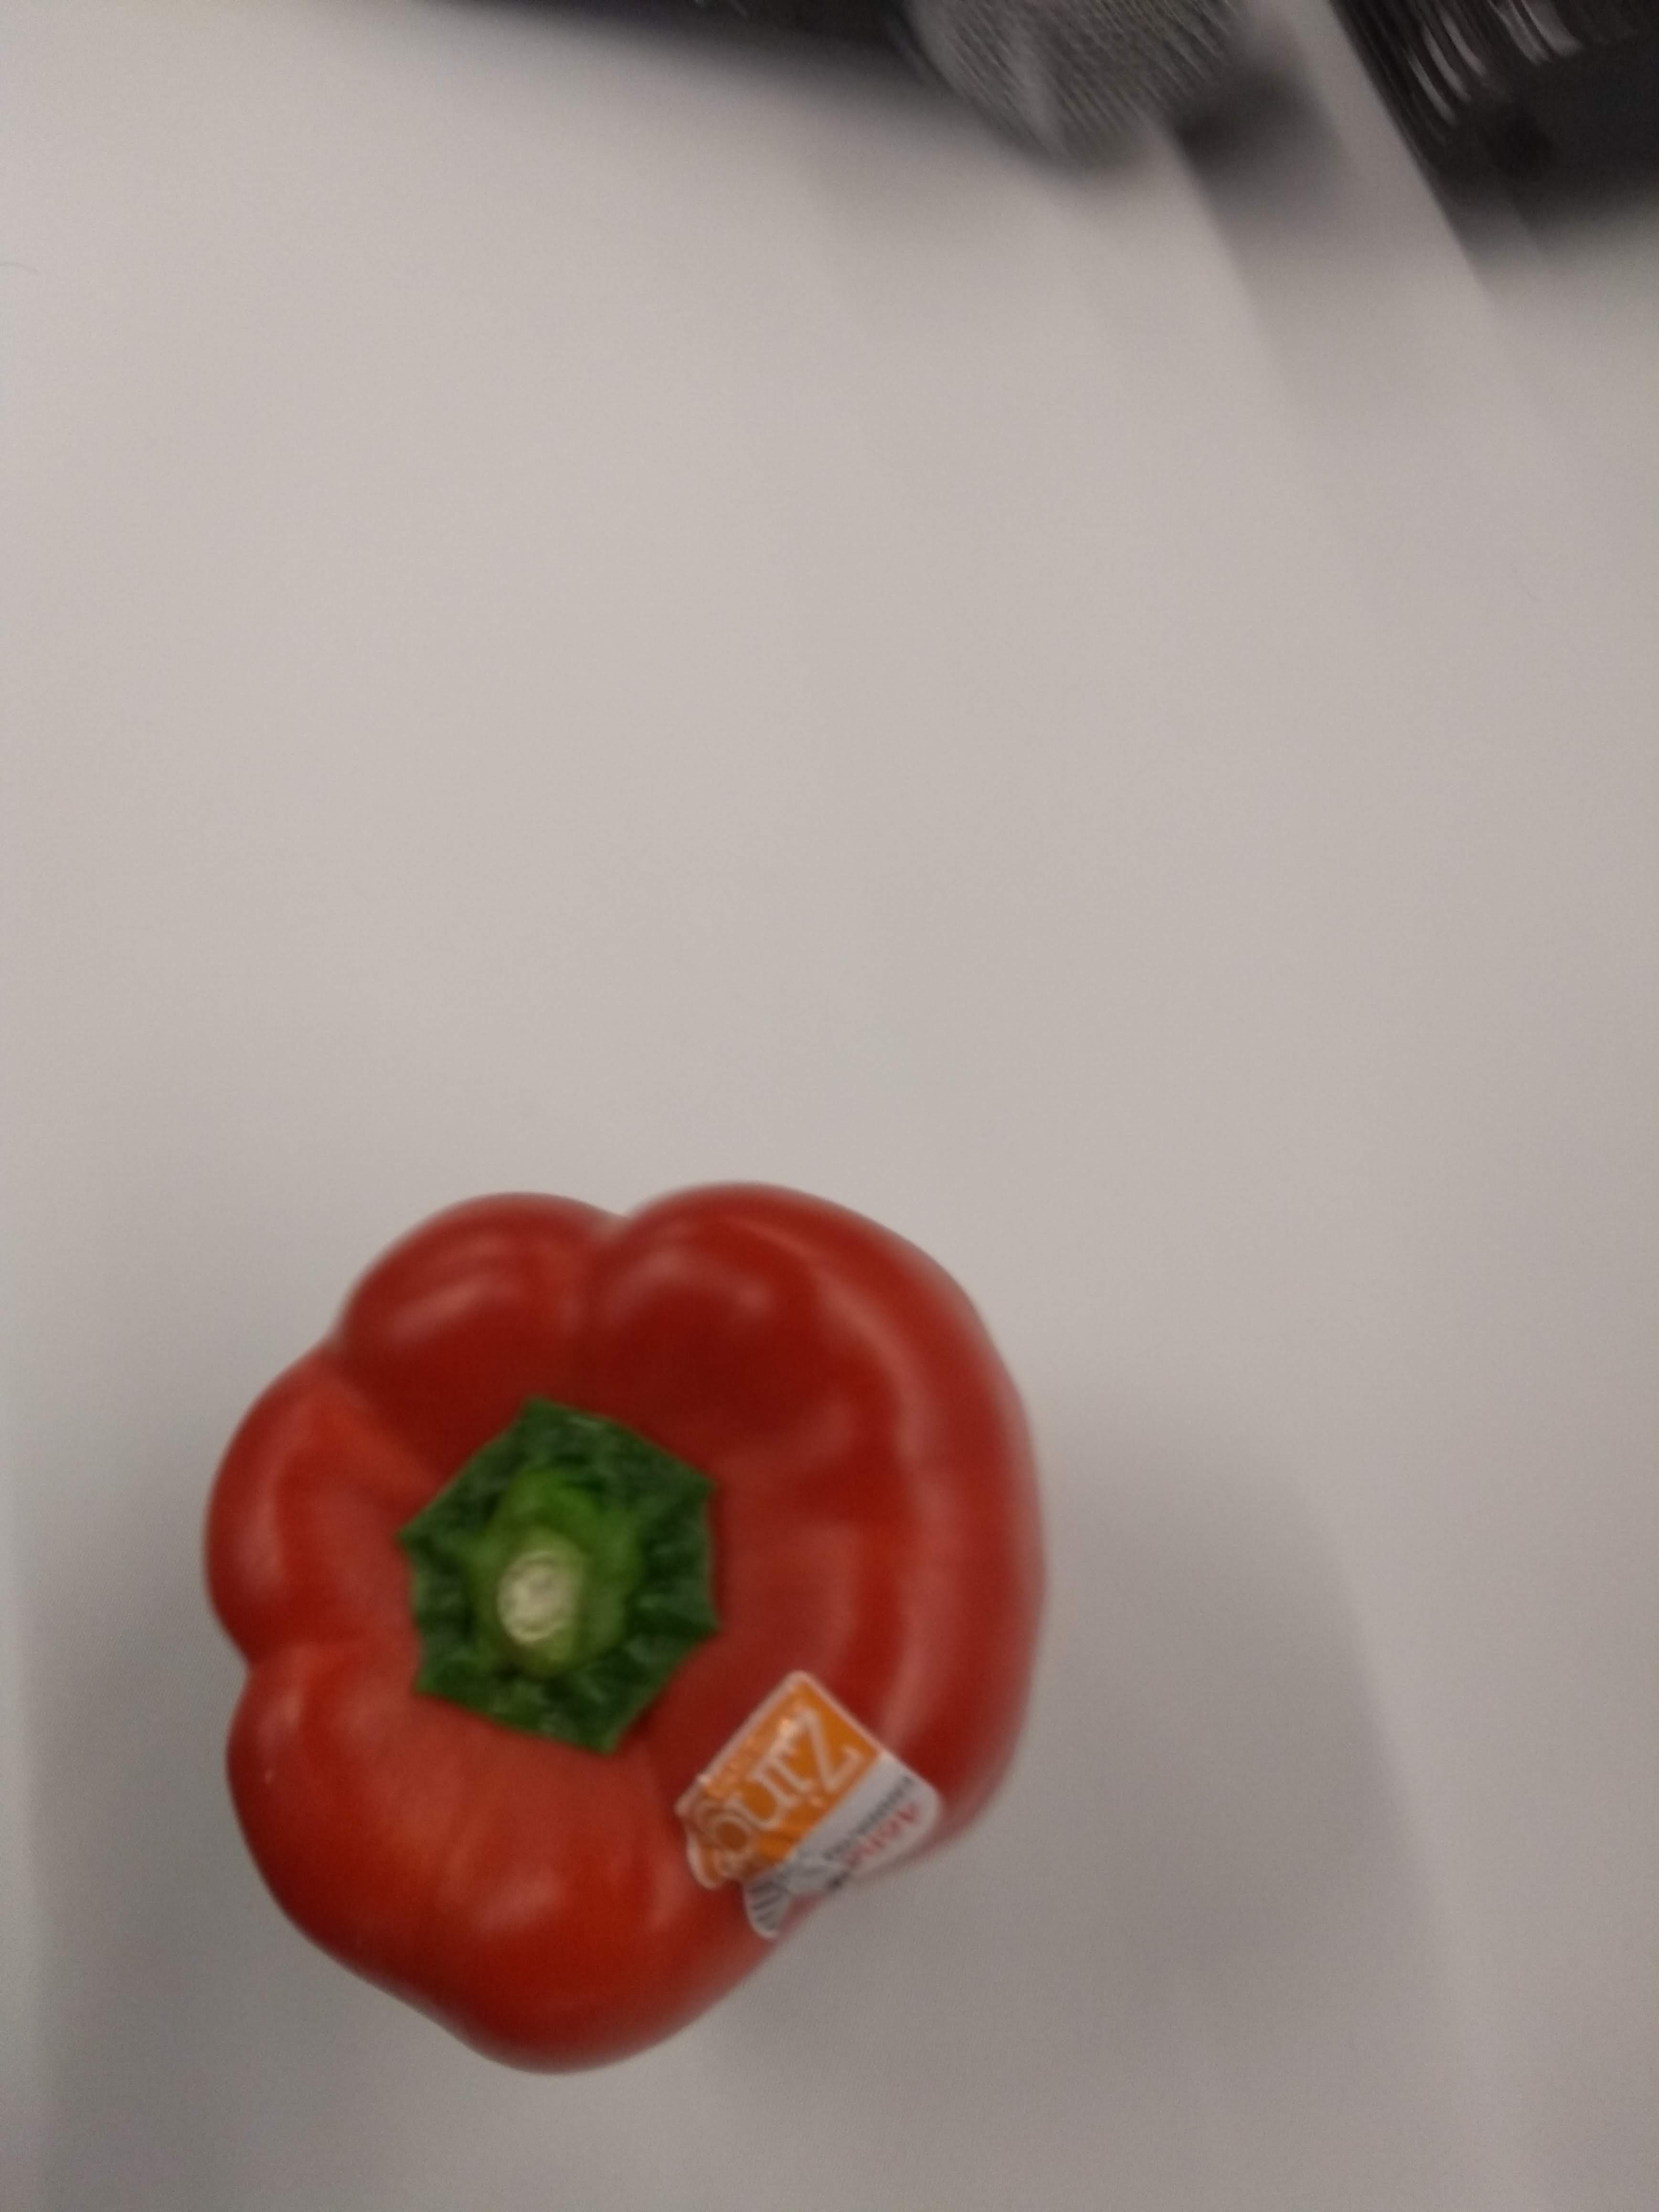paprika: (166, 1169, 1063, 2087)
